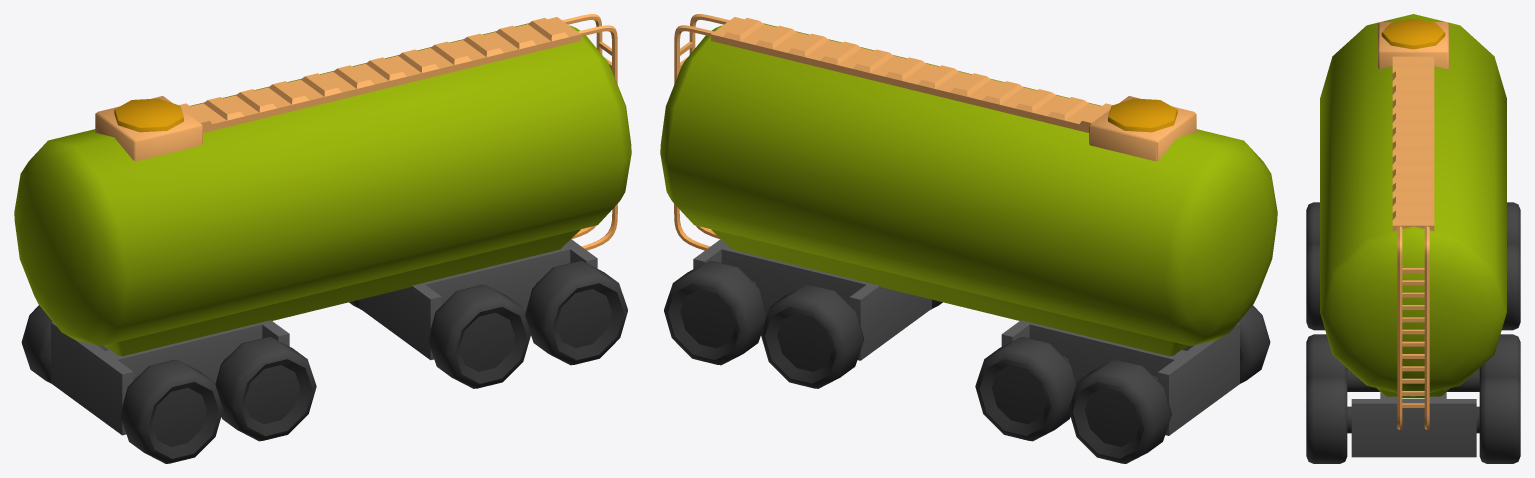
File: Vehicle_Oil_Transportation_Truck_01.fbx
3 renders of one model, left to right at view 1: azimuth 30°, elevation 25°; view 2: azimuth 150°, elevation 25°; view 3: azimuth 270°, elevation 25°, orthographic. The views are drawn at different scales.
Visible parts, largest first — view 1: Vehicle_Oil_Transportation_Truck_01; view 2: Vehicle_Oil_Transportation_Truck_01; view 3: Vehicle_Oil_Transportation_Truck_01.
Boxes of the visible parts, box(x1,y1,x2,y2) form: Vehicle_Oil_Transportation_Truck_01: box(14, 14, 631, 463); Vehicle_Oil_Transportation_Truck_01: box(660, 14, 1277, 463); Vehicle_Oil_Transportation_Truck_01: box(1306, 14, 1520, 463).
Size of the model in its own units: 456 by 231 by 170.
